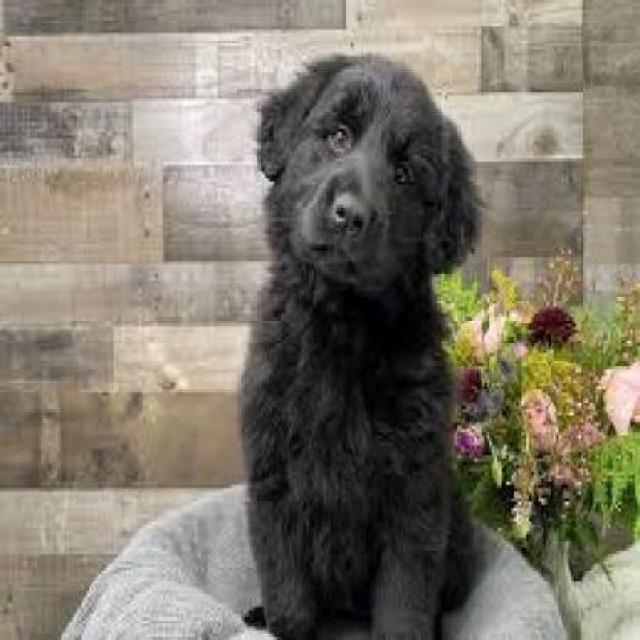animals: (230, 49, 505, 640)
